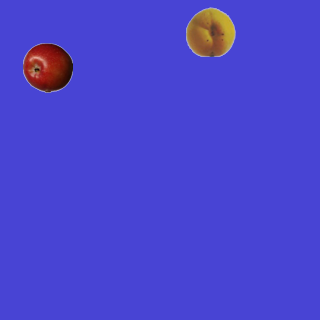Apple Braeburn: (22, 42, 72, 92)
Peach 2: (185, 6, 235, 56)
